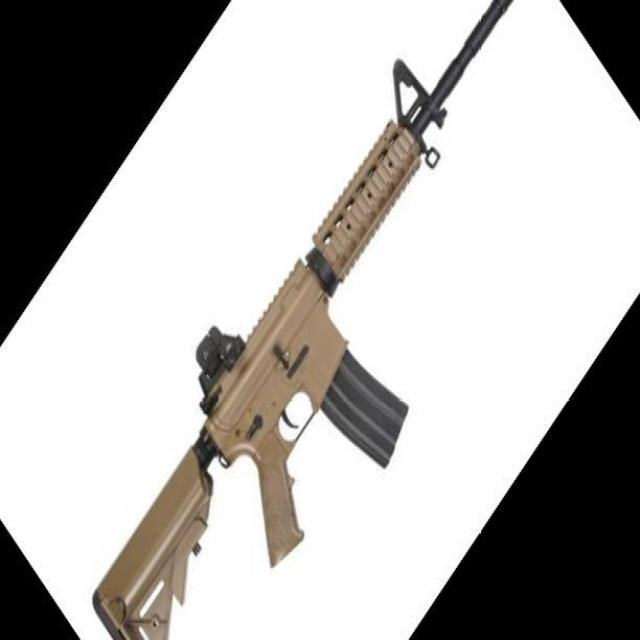heavy-weapon: (92, 1, 514, 640)
